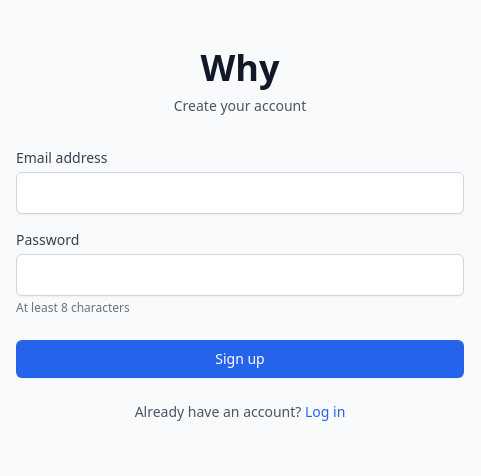
Test: SignupPage › should display error message on signup failure
This screenshot has width=481, height=476.
Step 1. Type "existing@example.com" into the field labelled "Email address" → (240, 193), box top-left (16, 172), bottom-right (464, 214)
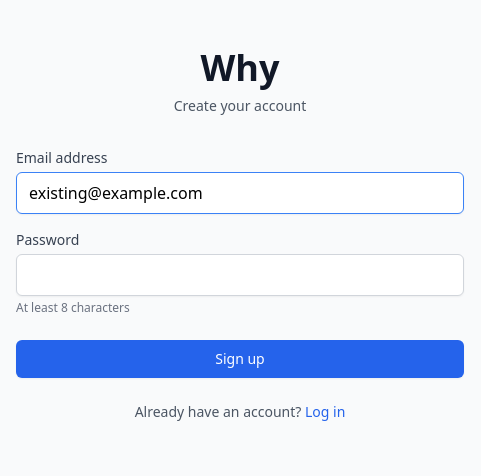
Step 2. Type "password123" into the password field labelled "Password" → (240, 275), box top-left (16, 254), bottom-right (464, 296)
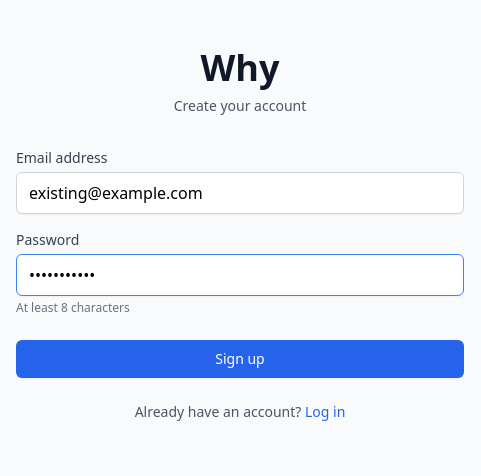
Step 3. Click the button "Sign up" → click(240, 359), box top-left (16, 340), bottom-right (464, 378)
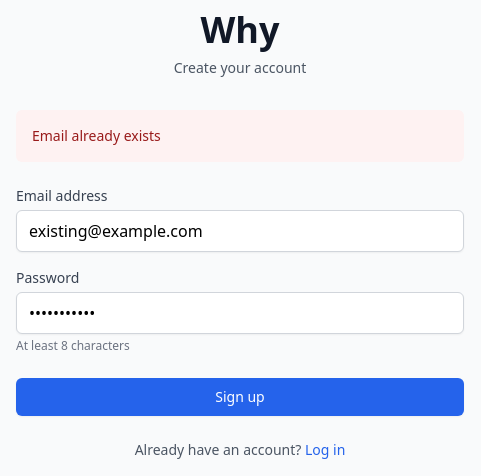
Now the text "Email already exists" is shown, box top-left (32, 126), bottom-right (161, 145)
